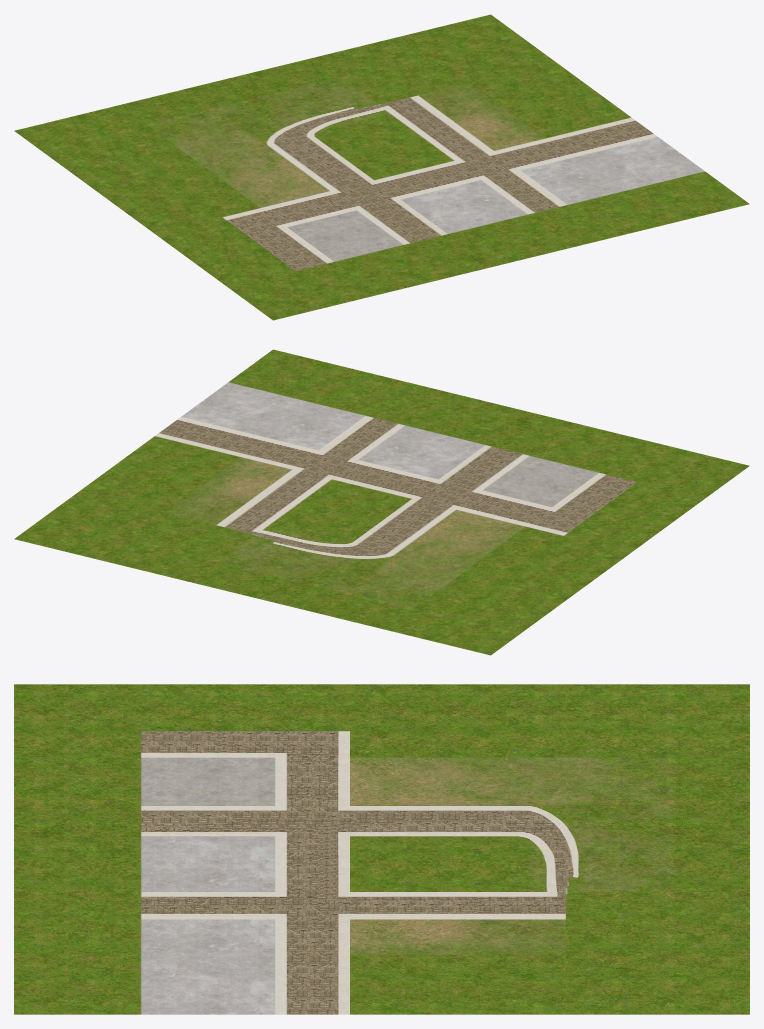
Rendered from Plane_Ground.fbx.
The picture shows the model from 3 angles, top to bottom: view 1: azimuth 30°, elevation 25°; view 2: azimuth 150°, elevation 25°; view 3: azimuth 270°, elevation 25°; orthographic projection. The views are drawn at different scales.
Visible parts, largest first — view 1: polySurface1052; view 2: polySurface1052; view 3: polySurface1052.
Part boxes in pixels (x1,y1,x2,y2): polySurface1052: (14, 14, 749, 320); polySurface1052: (14, 349, 749, 655); polySurface1052: (14, 684, 749, 1014).
Bounding box in the file's own units: 280 × 0 × 264.
Materials: 1 (1 with a texture image).
